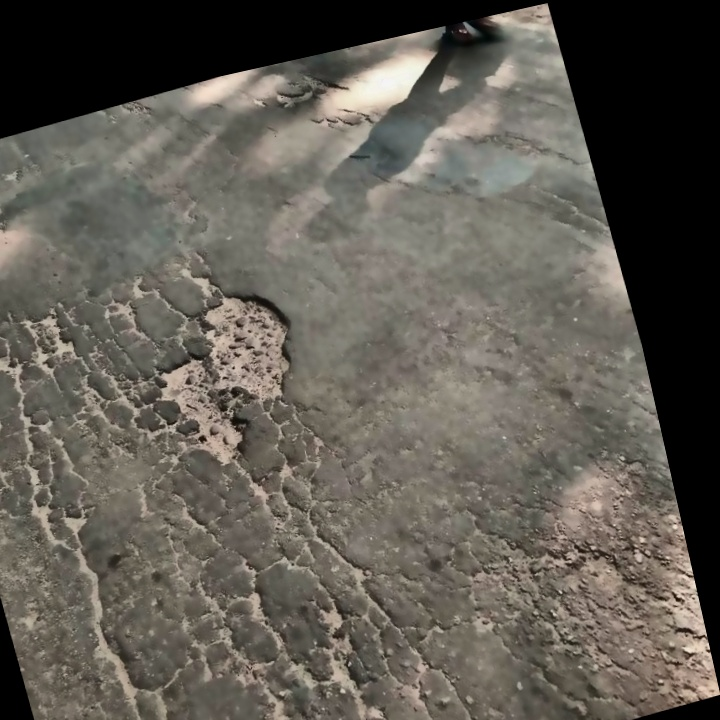pothole: (130, 271, 324, 483)
